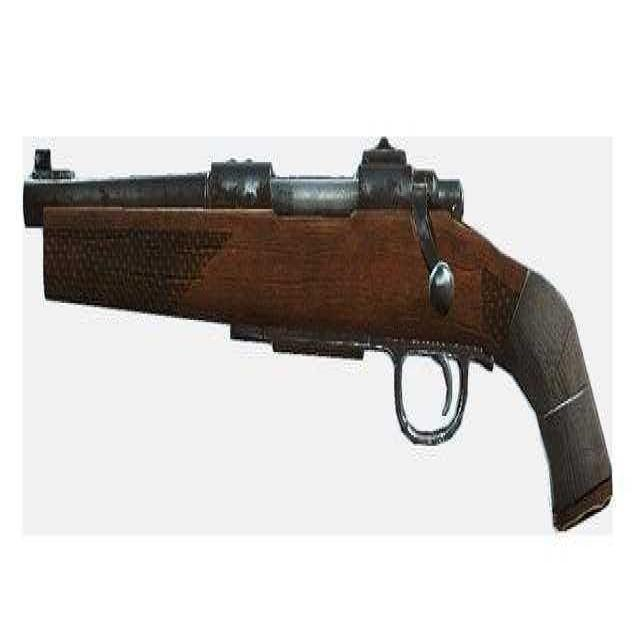weapon: (16, 111, 622, 557)
